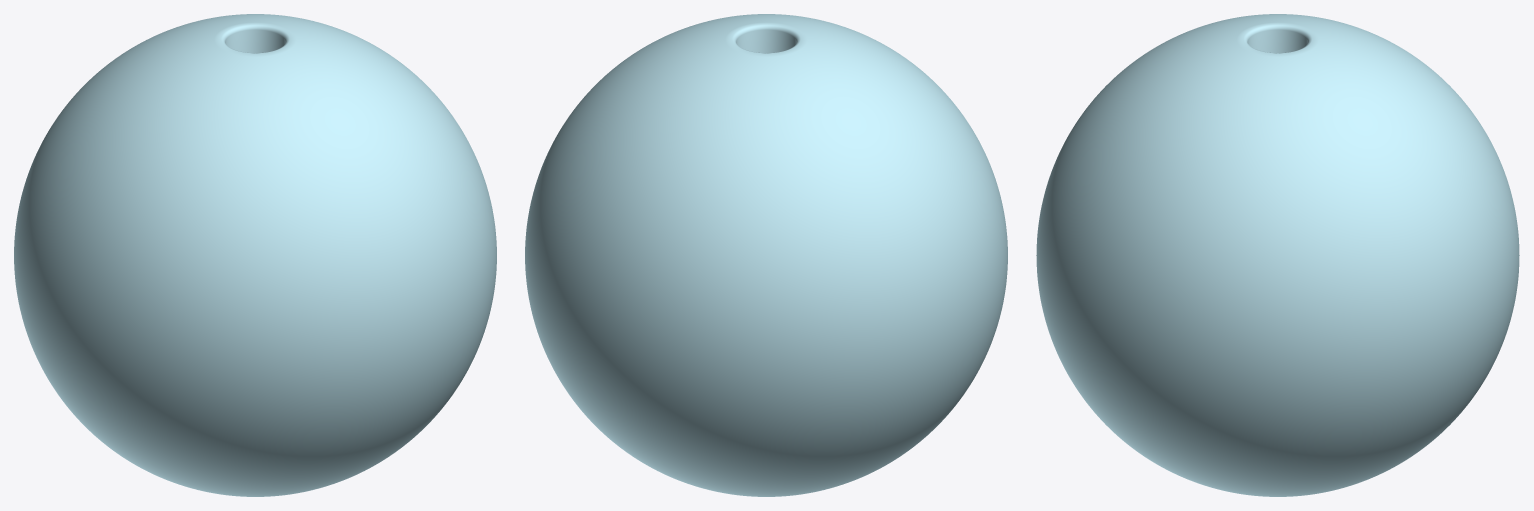
File: aquamarine-clear-8mm.glb
3 renders of one model, left to right at view 1: azimuth 30°, elevation 25°; view 2: azimuth 150°, elevation 25°; view 3: azimuth 270°, elevation 25°, orthographic.
Parts seen in each view (by area): view 1: 冰透海蓝宝; view 2: 冰透海蓝宝; view 3: 冰透海蓝宝.
Boxes of the visible parts, <box> form: 冰透海蓝宝: <box>14,14,496,496</box>; 冰透海蓝宝: <box>525,14,1007,496</box>; 冰透海蓝宝: <box>1036,14,1519,496</box>.
Bounding box in the file's own units: 0.008 × 0.00792 × 0.008.
